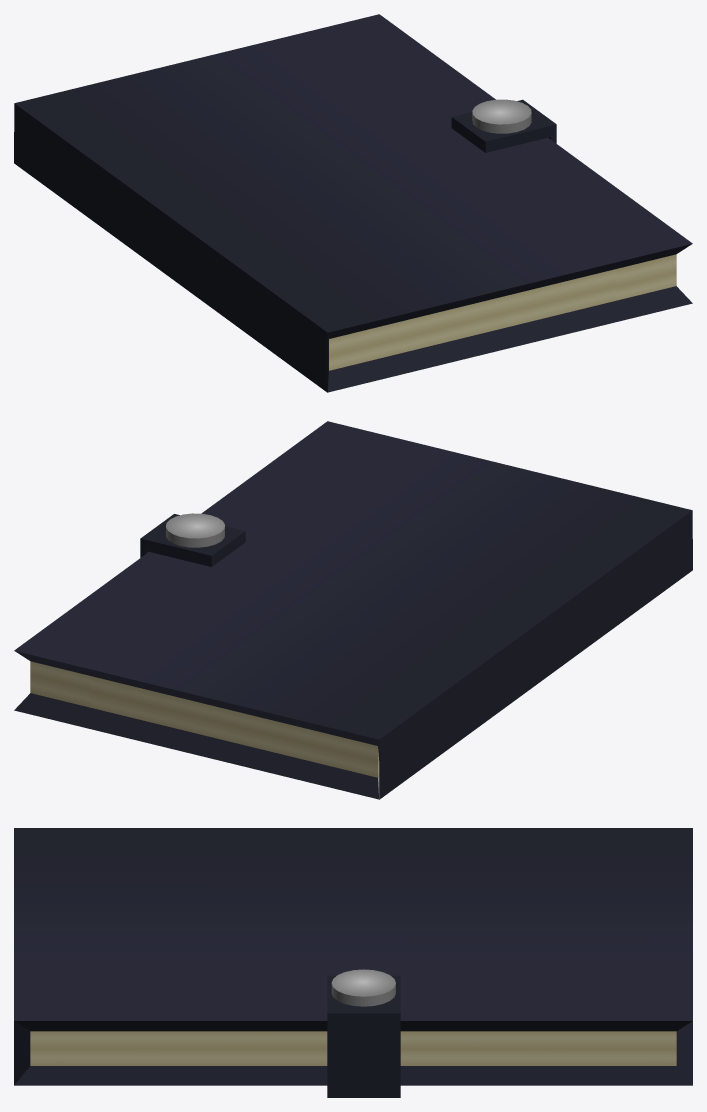
The model's file is diario_contextura.fbx.
The picture shows the model from 3 angles, top to bottom: view 1: azimuth 30°, elevation 25°; view 2: azimuth 150°, elevation 25°; view 3: azimuth 270°, elevation 25°; orthographic projection. The views are drawn at different scales.
Visible parts, largest first — view 1: pCylinder2; view 2: pCylinder2; view 3: pCylinder2.
Part boxes in pixels (bbox=[...]): pCylinder2: bbox=[14, 14, 692, 392]; pCylinder2: bbox=[14, 421, 692, 799]; pCylinder2: bbox=[14, 828, 692, 1097].
Bounding box in the file's own units: 2.05 × 0.4584 × 2.98.
